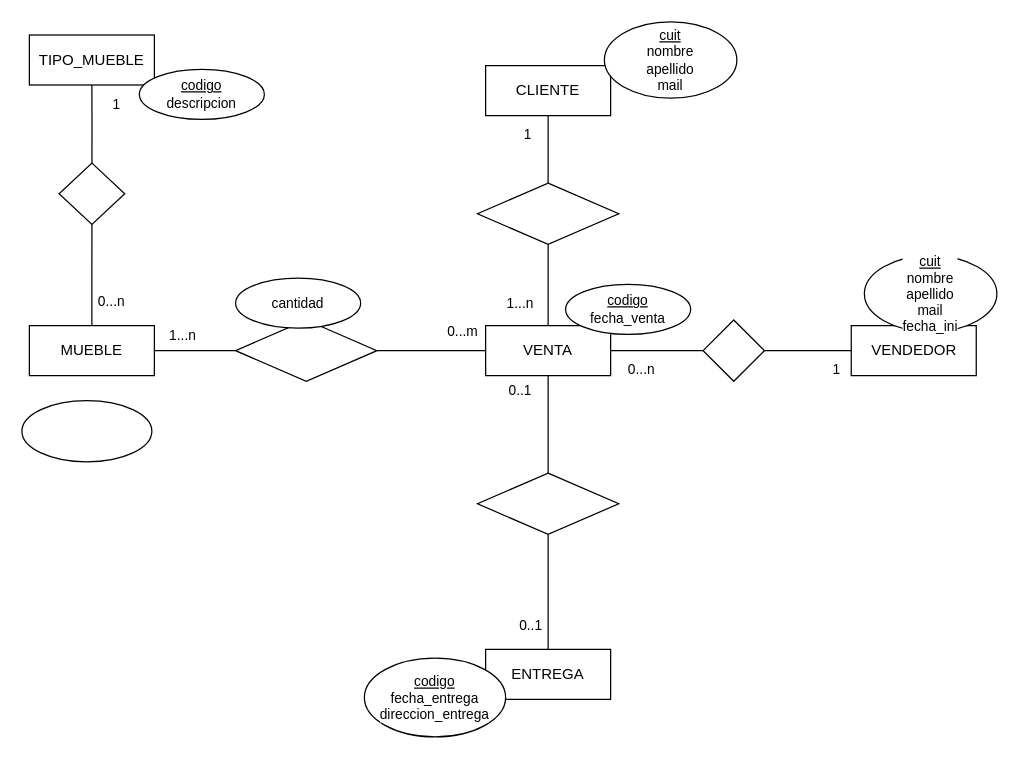
Some shapes in this 1019 by 759 pixel diagram are drawn without their labels. Each missing label, with the centre of its shape:
codigo descripcion stock: pixel 86 430
venta_cliente: pixel 547 213
venta_entrega: pixel 547 503
venta_mueble: pixel 305 350
